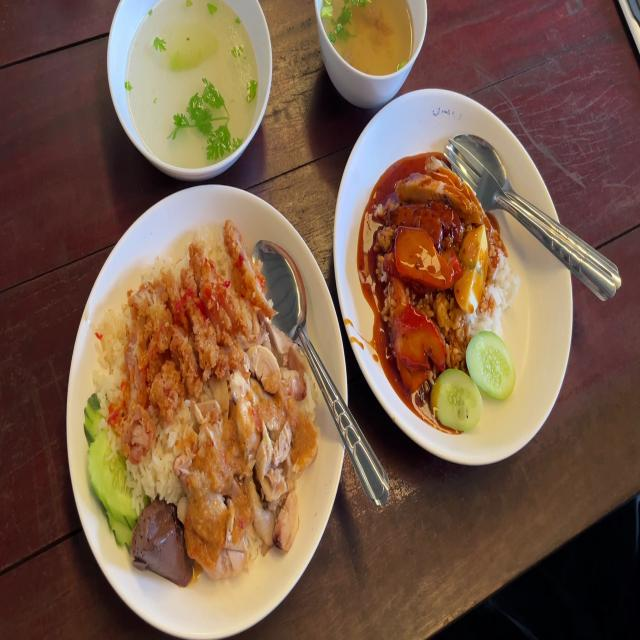01boiled_egg: (456, 221, 492, 310)
01chainese_sausage: (387, 198, 462, 246)
01red_pork: (386, 304, 444, 386), (395, 222, 454, 288)
01red_pork_and_crispy_pork: (373, 159, 519, 435)
boiled_chicken: (185, 331, 318, 558)
boiled_chicken_blood_jelly: (132, 498, 188, 584)
chicken_rice: (82, 216, 328, 582), (397, 156, 488, 222)
cucumber: (81, 394, 144, 550), (429, 367, 486, 435), (466, 334, 514, 396)
fried_chicken: (112, 216, 269, 454)
